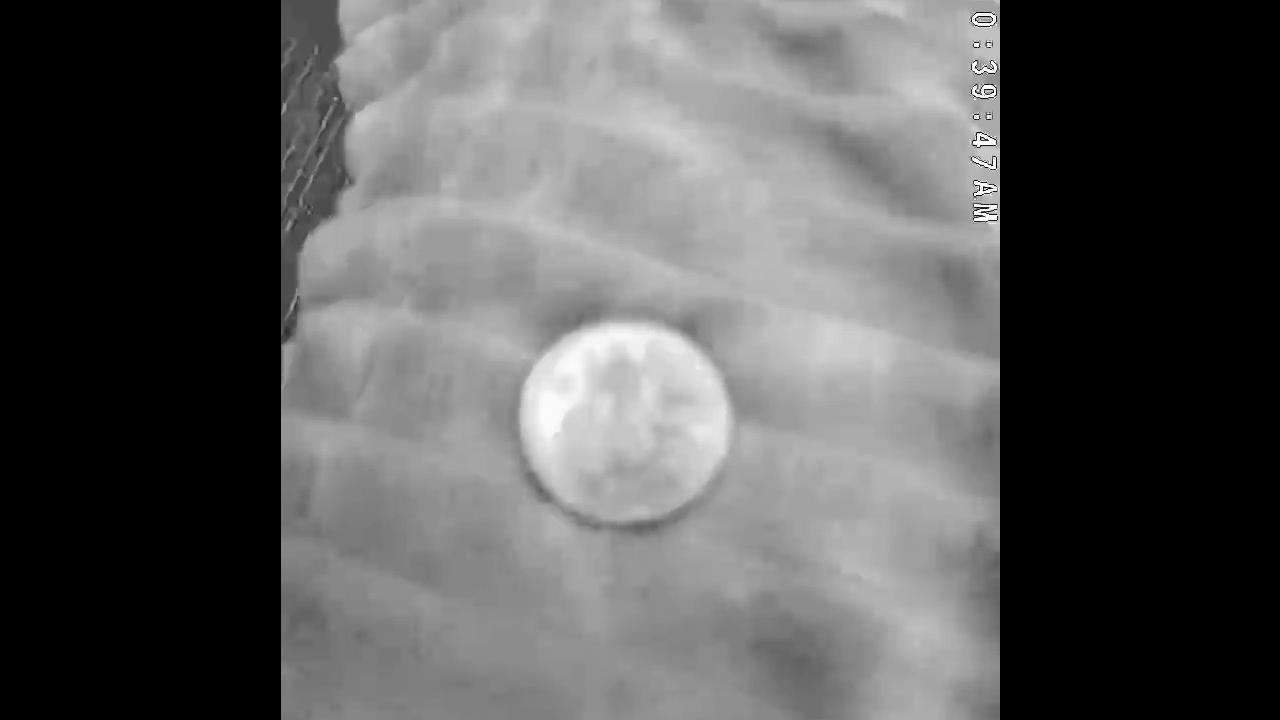coin: (510, 312, 740, 536)
